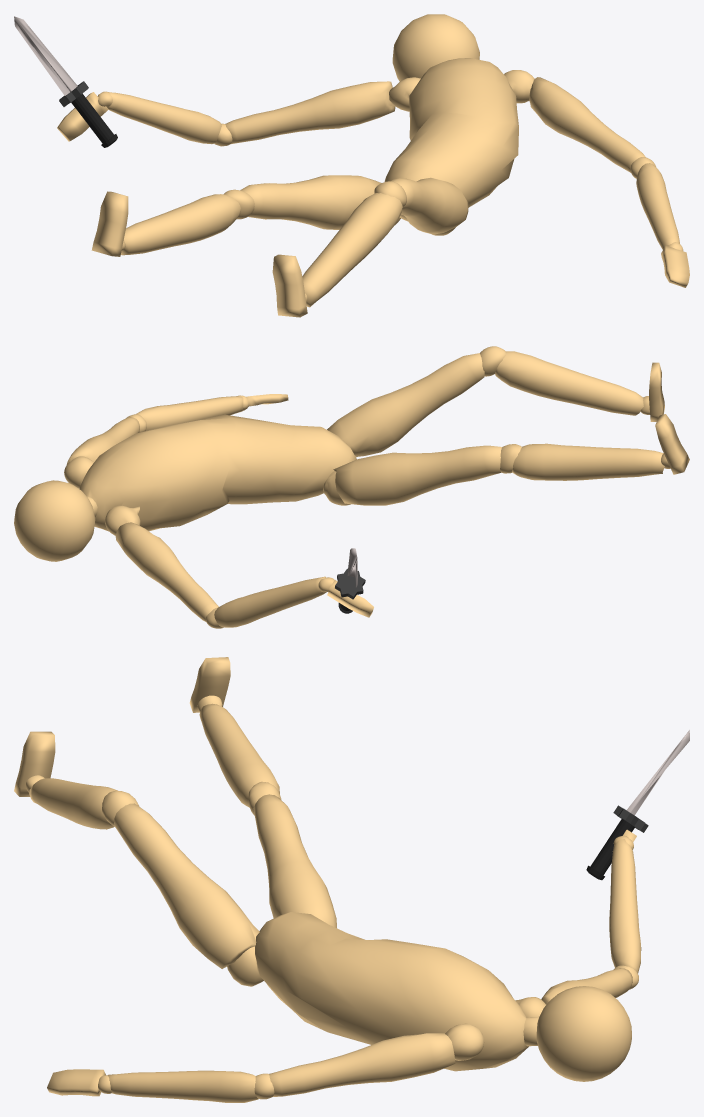
File: DeadScientist.fbx
The picture shows the model from 3 angles, top to bottom: view 1: azimuth 30°, elevation 25°; view 2: azimuth 150°, elevation 25°; view 3: azimuth 270°, elevation 25°; orthographic projection. The views are drawn at different scales.
Parts seen in each view (by area): view 1: Character; view 2: Character; view 3: Character.
Boxes of the visible parts, x1,y1,x2,y2 form: Character: (14, 14, 689, 317); Character: (14, 346, 689, 628); Character: (14, 657, 689, 1102).
Bounding box in the file's own units: 2067 × 546 × 1902.
